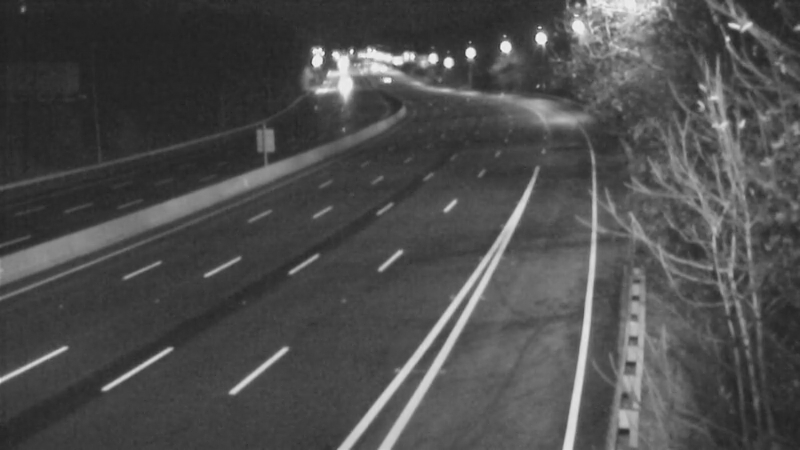vehicle: (358, 54, 408, 104), (319, 62, 369, 112)
